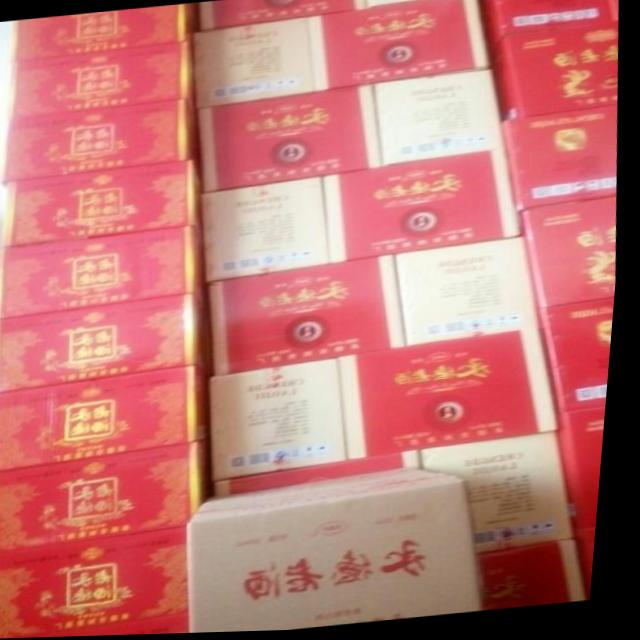box: (196, 470, 491, 634), (343, 331, 567, 463), (214, 256, 412, 377), (0, 442, 215, 553), (325, 150, 526, 266), (0, 365, 213, 472), (0, 527, 199, 639), (0, 293, 207, 394), (200, 85, 384, 194), (427, 435, 583, 557), (0, 225, 202, 319), (306, 0, 491, 94), (3, 99, 196, 188), (216, 360, 355, 482), (5, 160, 199, 247), (399, 240, 545, 349), (8, 41, 189, 121), (202, 178, 333, 283), (488, 24, 619, 124), (375, 71, 509, 168), (504, 108, 619, 216), (522, 199, 620, 313), (193, 19, 314, 110), (10, 4, 190, 62), (222, 453, 430, 497), (542, 300, 620, 417), (483, 542, 598, 613), (477, 0, 618, 56), (563, 410, 613, 533), (199, 0, 367, 32), (366, 0, 434, 10)
